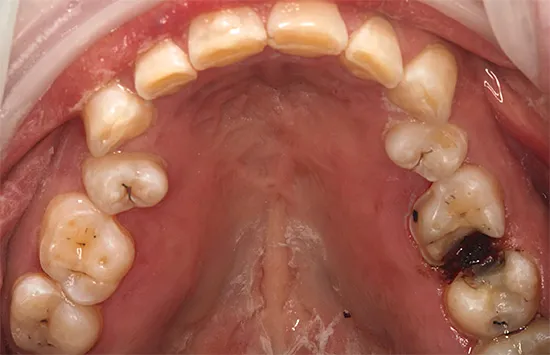UL1BC_decay: (408, 173, 508, 262)
UL2BC_decay: (442, 262, 538, 333)
ULCI_healthy: (349, 16, 404, 90)
ULC_decay: (382, 121, 468, 175)
ULLI_healthy: (406, 47, 461, 123)
UR1BC_decay: (84, 159, 172, 208)
UR1M_decay: (15, 285, 104, 355)
UR2BC_decay: (43, 200, 132, 298)
UR2M_decay: (268, 1, 348, 60)
URCI_decay: (191, 14, 265, 66)
URC_decay: (83, 89, 155, 153)
URLI_decay: (135, 44, 196, 97)
